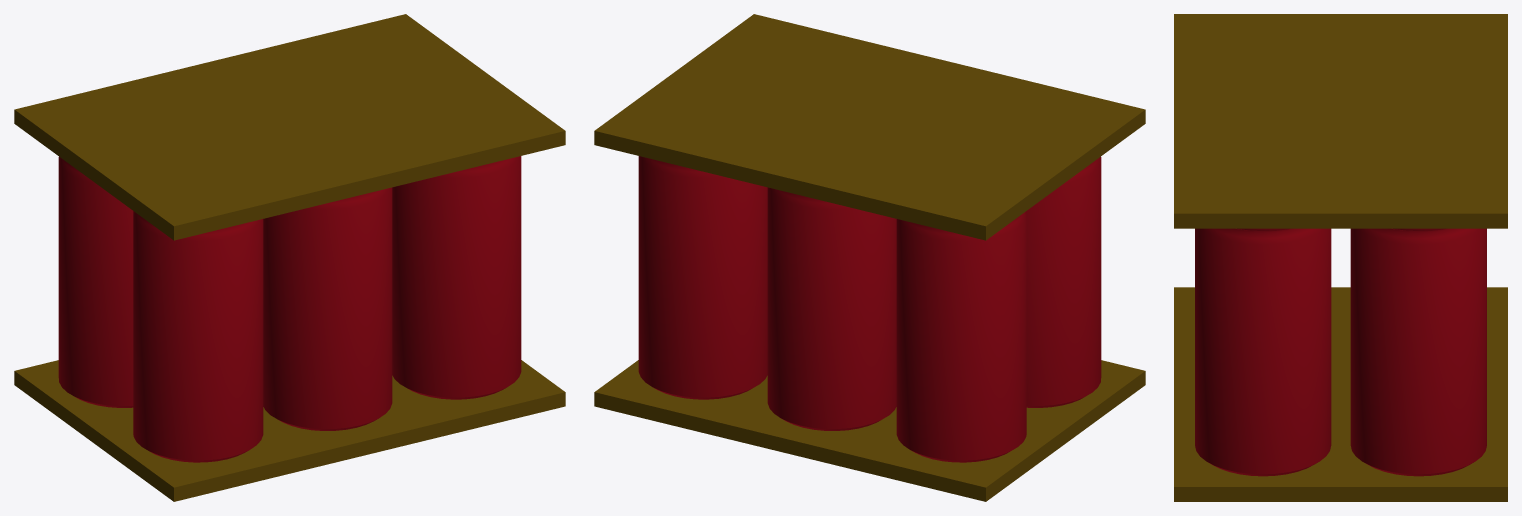
Rendered from soda_pack.fbx.
The picture shows the model from 3 angles, left to right: view 1: azimuth 30°, elevation 25°; view 2: azimuth 150°, elevation 25°; view 3: azimuth 270°, elevation 25°; orthographic projection. The views are drawn at different scales.
Visible parts, largest first — view 1: Cube.001, Cylinder.005, Cylinder.004, Cylinder.003, Cube, Cylinder.002; view 2: Cube.001, Cylinder.002, Cylinder.001, Cylinder, Cube, Cylinder.005; view 3: Cube.001, Cylinder.001, Cylinder.004, Cube.
Boxes of the visible parts, bbox=[...] form: Cube.001: bbox=[14, 14, 565, 240]; Cylinder.005: bbox=[133, 211, 263, 462]; Cylinder.004: bbox=[392, 156, 521, 399]; Cylinder.003: bbox=[263, 187, 392, 430]; Cube: bbox=[14, 360, 565, 501]; Cylinder.002: bbox=[58, 156, 133, 407]; Cube.001: bbox=[594, 14, 1145, 240]; Cylinder.002: bbox=[896, 211, 1026, 462]; Cylinder.001: bbox=[638, 156, 767, 399]; Cylinder: bbox=[767, 187, 896, 430]; Cube: bbox=[594, 360, 1145, 501]; Cylinder.005: bbox=[1026, 156, 1101, 407]; Cube.001: bbox=[1174, 14, 1507, 228]; Cylinder.001: bbox=[1350, 228, 1486, 476]; Cylinder.004: bbox=[1195, 228, 1331, 476]; Cube: bbox=[1174, 287, 1507, 501].
Bounding box in the file's own units: 607 × 408 × 429.
